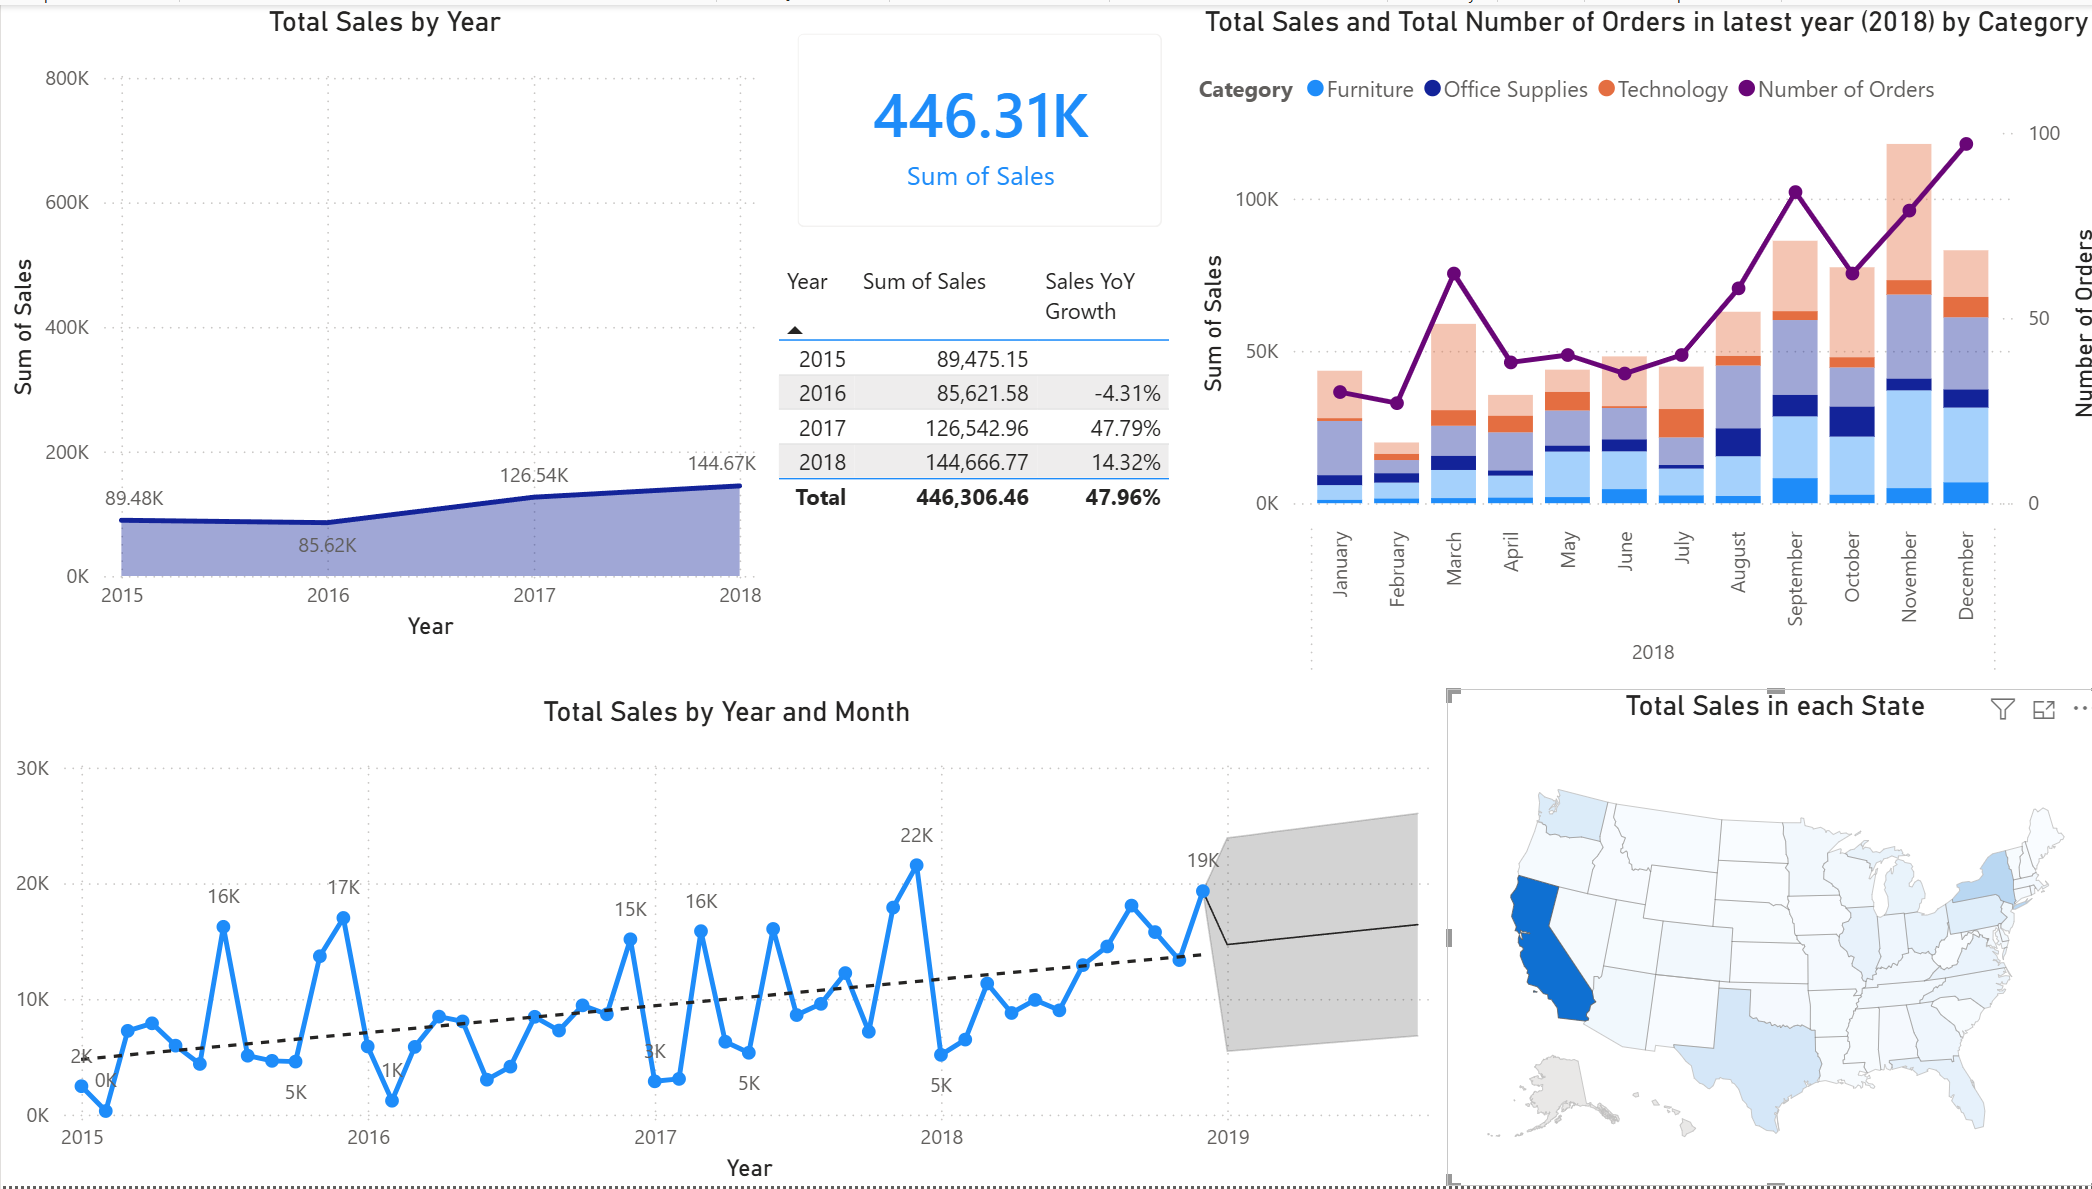

The dashboard page shown, as its layout file describes it:
{"tool":"powerbi","page":{"name":"Sales Trend","canvas":[1280,720],"ordinal":0},"visuals":[{"type":"areaChart","title":"Total Sales by Year","fields":{"Category":["superstore_sales_dataset.Order Date.Variation.Date Hierarchy.Year"],"Y":["Sum(superstore_sales_dataset.Sales)"]},"box":[0,0,467.4,390.7],"z":0},{"type":"lineChart","title":"Total Sales by Year and Month","fields":{"Category":["superstore_sales_dataset.Order Date.Variation.Date Hierarchy.Year","superstore_sales_dataset.Order Date.Variation.Date Hierarchy.Month"],"Y":["Sum(superstore_sales_dataset.Sales)"]},"box":[3.5,415.1,876.7,304.7],"z":1000},{"type":"lineStackedColumnComboChart","title":"Total Sales and Total Number of Orders in latest year (2018) by Category","fields":{"Y":["Sum(superstore_sales_dataset.Sales)"],"Series":["superstore_sales_dataset.Category Hierarchy.Category"],"Category":["superstore_sales_dataset.Order Date.Variation.Date Hierarchy.Year","superstore_sales_dataset.Order Date.Variation.Date Hierarchy.Month"],"Y2":["CountNonNull(superstore_sales_dataset.Row ID)"]},"box":[724.4,0,555.8,416.3],"z":2000},{"type":"tableEx","fields":{"Values":["superstore_sales_dataset.Order Date.Variation.Date Hierarchy.Year","Sum(superstore_sales_dataset.Sales)","superstore_sales_dataset.Sales YoY Growth"]},"box":[467.4,152.3,250,208.1],"z":3000},{"type":"cardVisual","title":"Total sales from 2015 to 2018","fields":{"Data":["Sum(superstore_sales_dataset.Sales)"]},"box":[467.4,0,257,152.3],"z":4000},{"type":"shapeMap","title":"Total Sales in each State","fields":{"Value":["Sum(superstore_sales_dataset.Sales)"],"Category":["superstore_sales_dataset.State"]},"box":[880.2,416.3,400,303.5],"z":4001}]}

Visuals, with their boxes in screenshot pixels (x1, y1, x2, y2), scaled from the page's 1280x720 canvas onto the 2092x1189 screenshot:
"Total Sales by Year" areaChart: Rect(0, 0, 764, 645)
"Total Sales by Year and Month" lineChart: Rect(6, 685, 1439, 1188)
"Total Sales and Total Number of Orders in latest year (2018) by Category" lineStackedColumnComboChart: Rect(1184, 0, 2091, 687)
tableEx - superstore_sales_dataset.Order Date.Variation.Date Hierarchy.Year x Sum(superstore_sales_dataset.Sales): Rect(764, 252, 1173, 595)
"Total sales from 2015 to 2018" cardVisual: Rect(764, 0, 1184, 252)
"Total Sales in each State" shapeMap: Rect(1439, 687, 2091, 1188)
